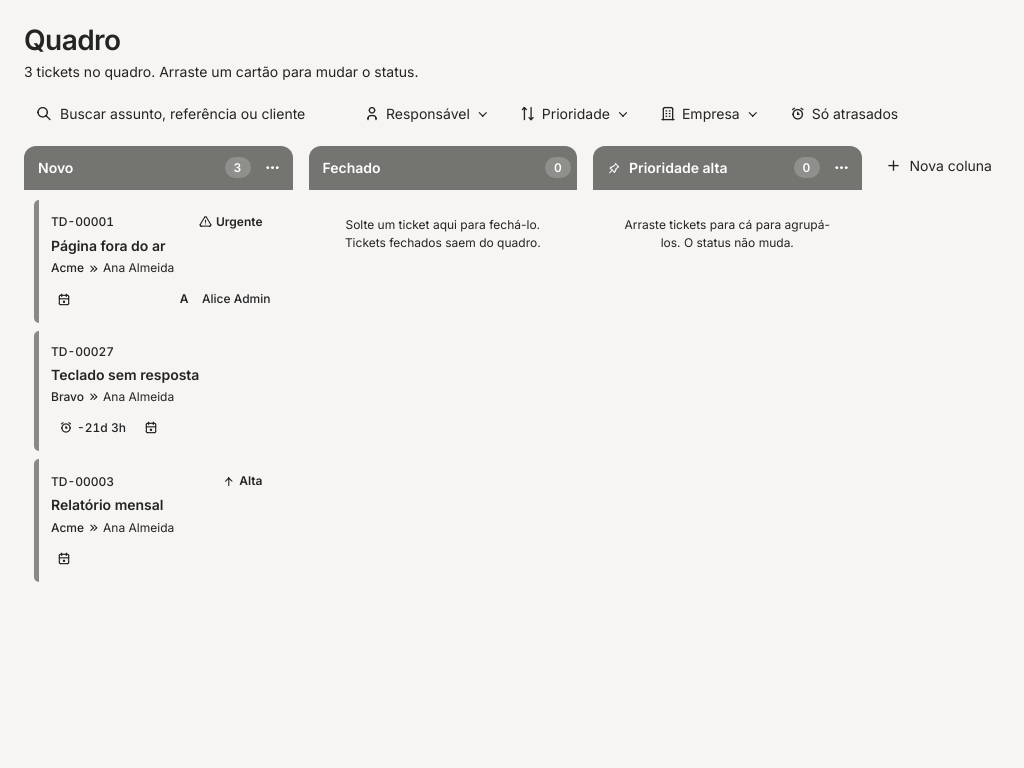
Test: PaginaKanban — filtros › a busca filtra na hora e vai para a URL; "Limpar filtros" volta tudo
In the search field named "Buscar por assunto, referência ou cliente": {"x": 196, "y": 114} top-left (60, 98), bottom-right (332, 130), type "teclado"
Wait 300 ms
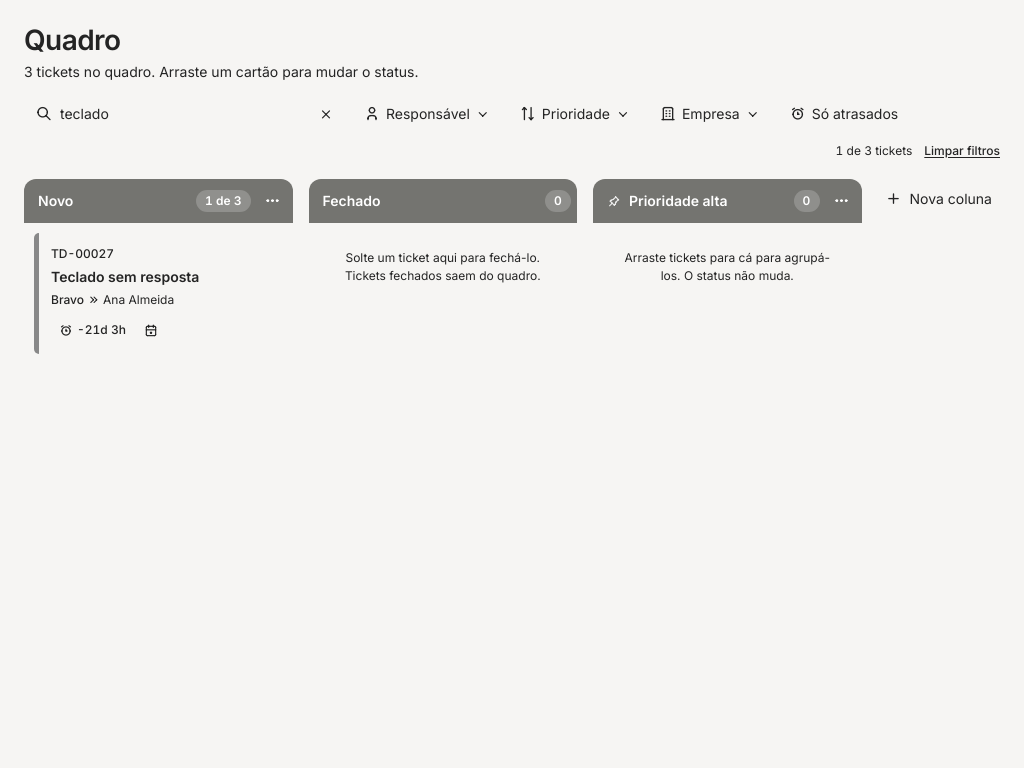
expect the number of buttons "TD-00027 Teclado sem resposta Bravo Ana Almeida -21d 3h" is 1: met, box top-left (51, 246), bottom-right (199, 342)
Click the button "Limpar filtros": {"x": 962, "y": 150} top-left (924, 138), bottom-right (1000, 163)
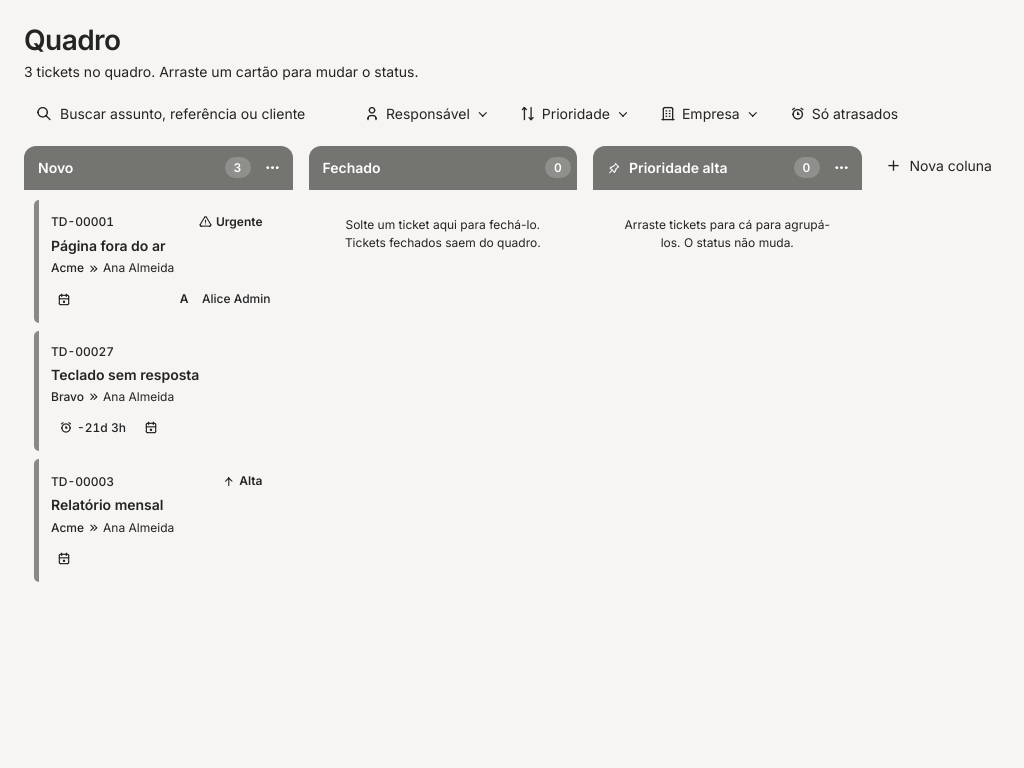
expect the number of buttons "TD-" is 3: met, box top-left (34, 200), bottom-right (282, 323); top-left (51, 344), bottom-right (199, 439); top-left (34, 459), bottom-right (282, 582)
